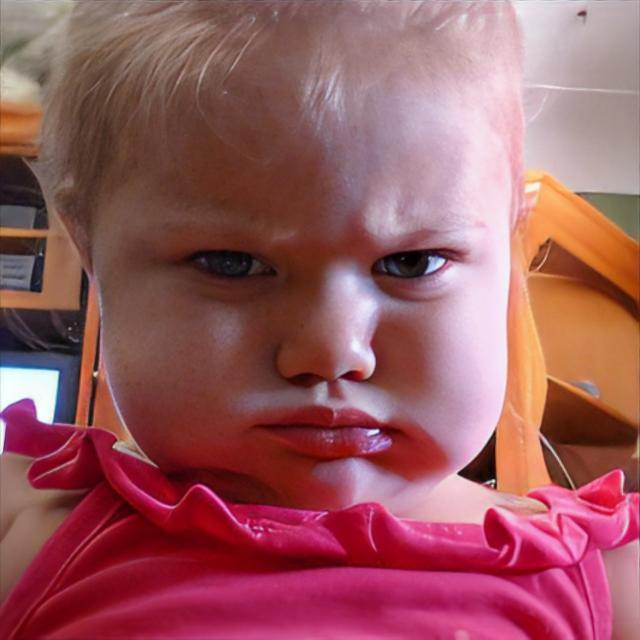anger: (104, 51, 512, 516)
